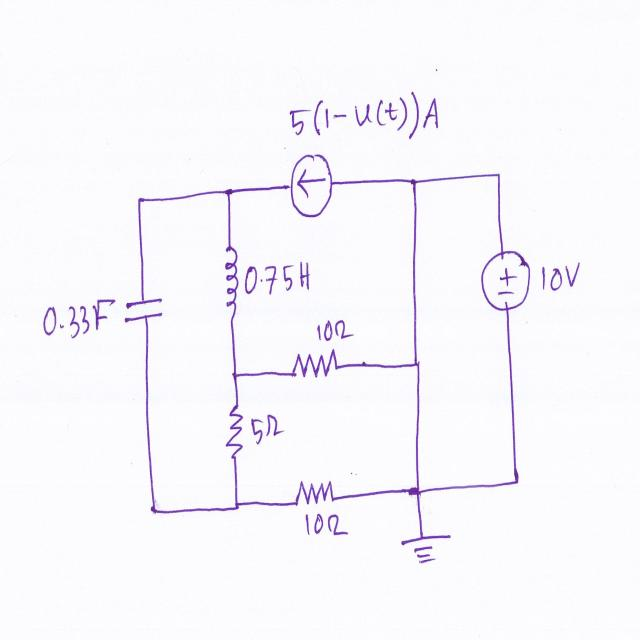capacitor: (125, 299, 169, 329)
current_source: (285, 149, 340, 232)
ground: (396, 529, 458, 572)
inductor: (220, 242, 244, 329)
resistor: (293, 471, 341, 514), (290, 348, 342, 386), (225, 399, 248, 463)
voltage_source: (479, 244, 537, 316)
